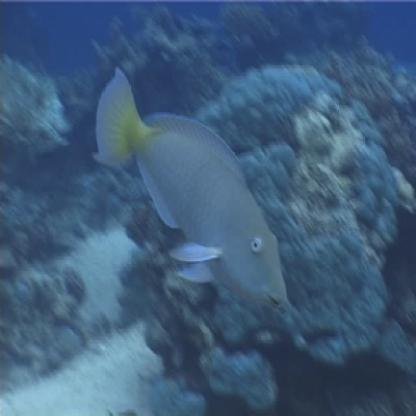parrot: (90, 54, 293, 316)
